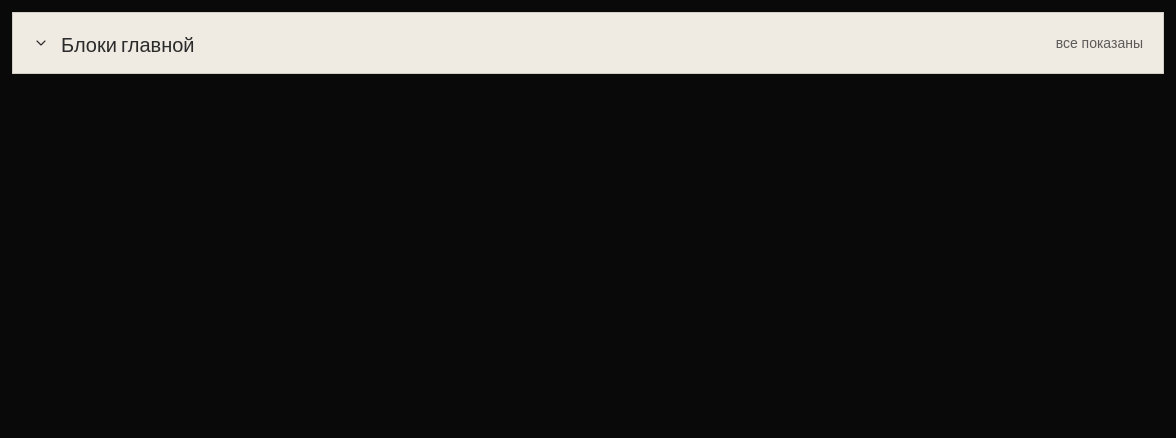
it: BlocksEditor — «Избранное» по устройствам › по умолчанию включено только на мобильных
Click the button "Блоки главной все показаны" at (128, 43), box [13, 13, 1163, 73]
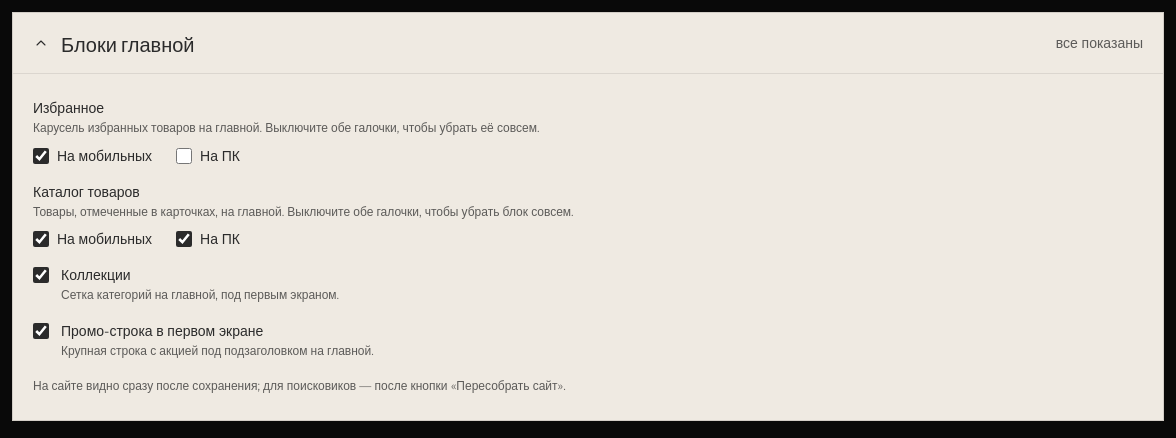
Expected: the checkbox labelled "На мобильных" below "Избранное" is checked, [33, 148, 49, 164]
Expected: the checkbox labelled "На ПК" below "Избранное" is not checked, [176, 148, 192, 164]
